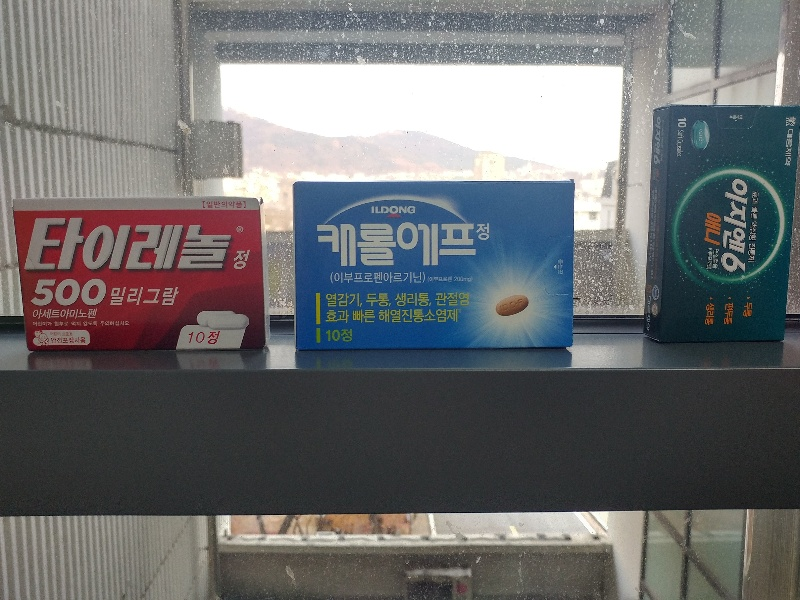carolF: (292, 180, 575, 350)
ezn: (644, 106, 800, 341)
tylenol: (11, 199, 268, 352)
